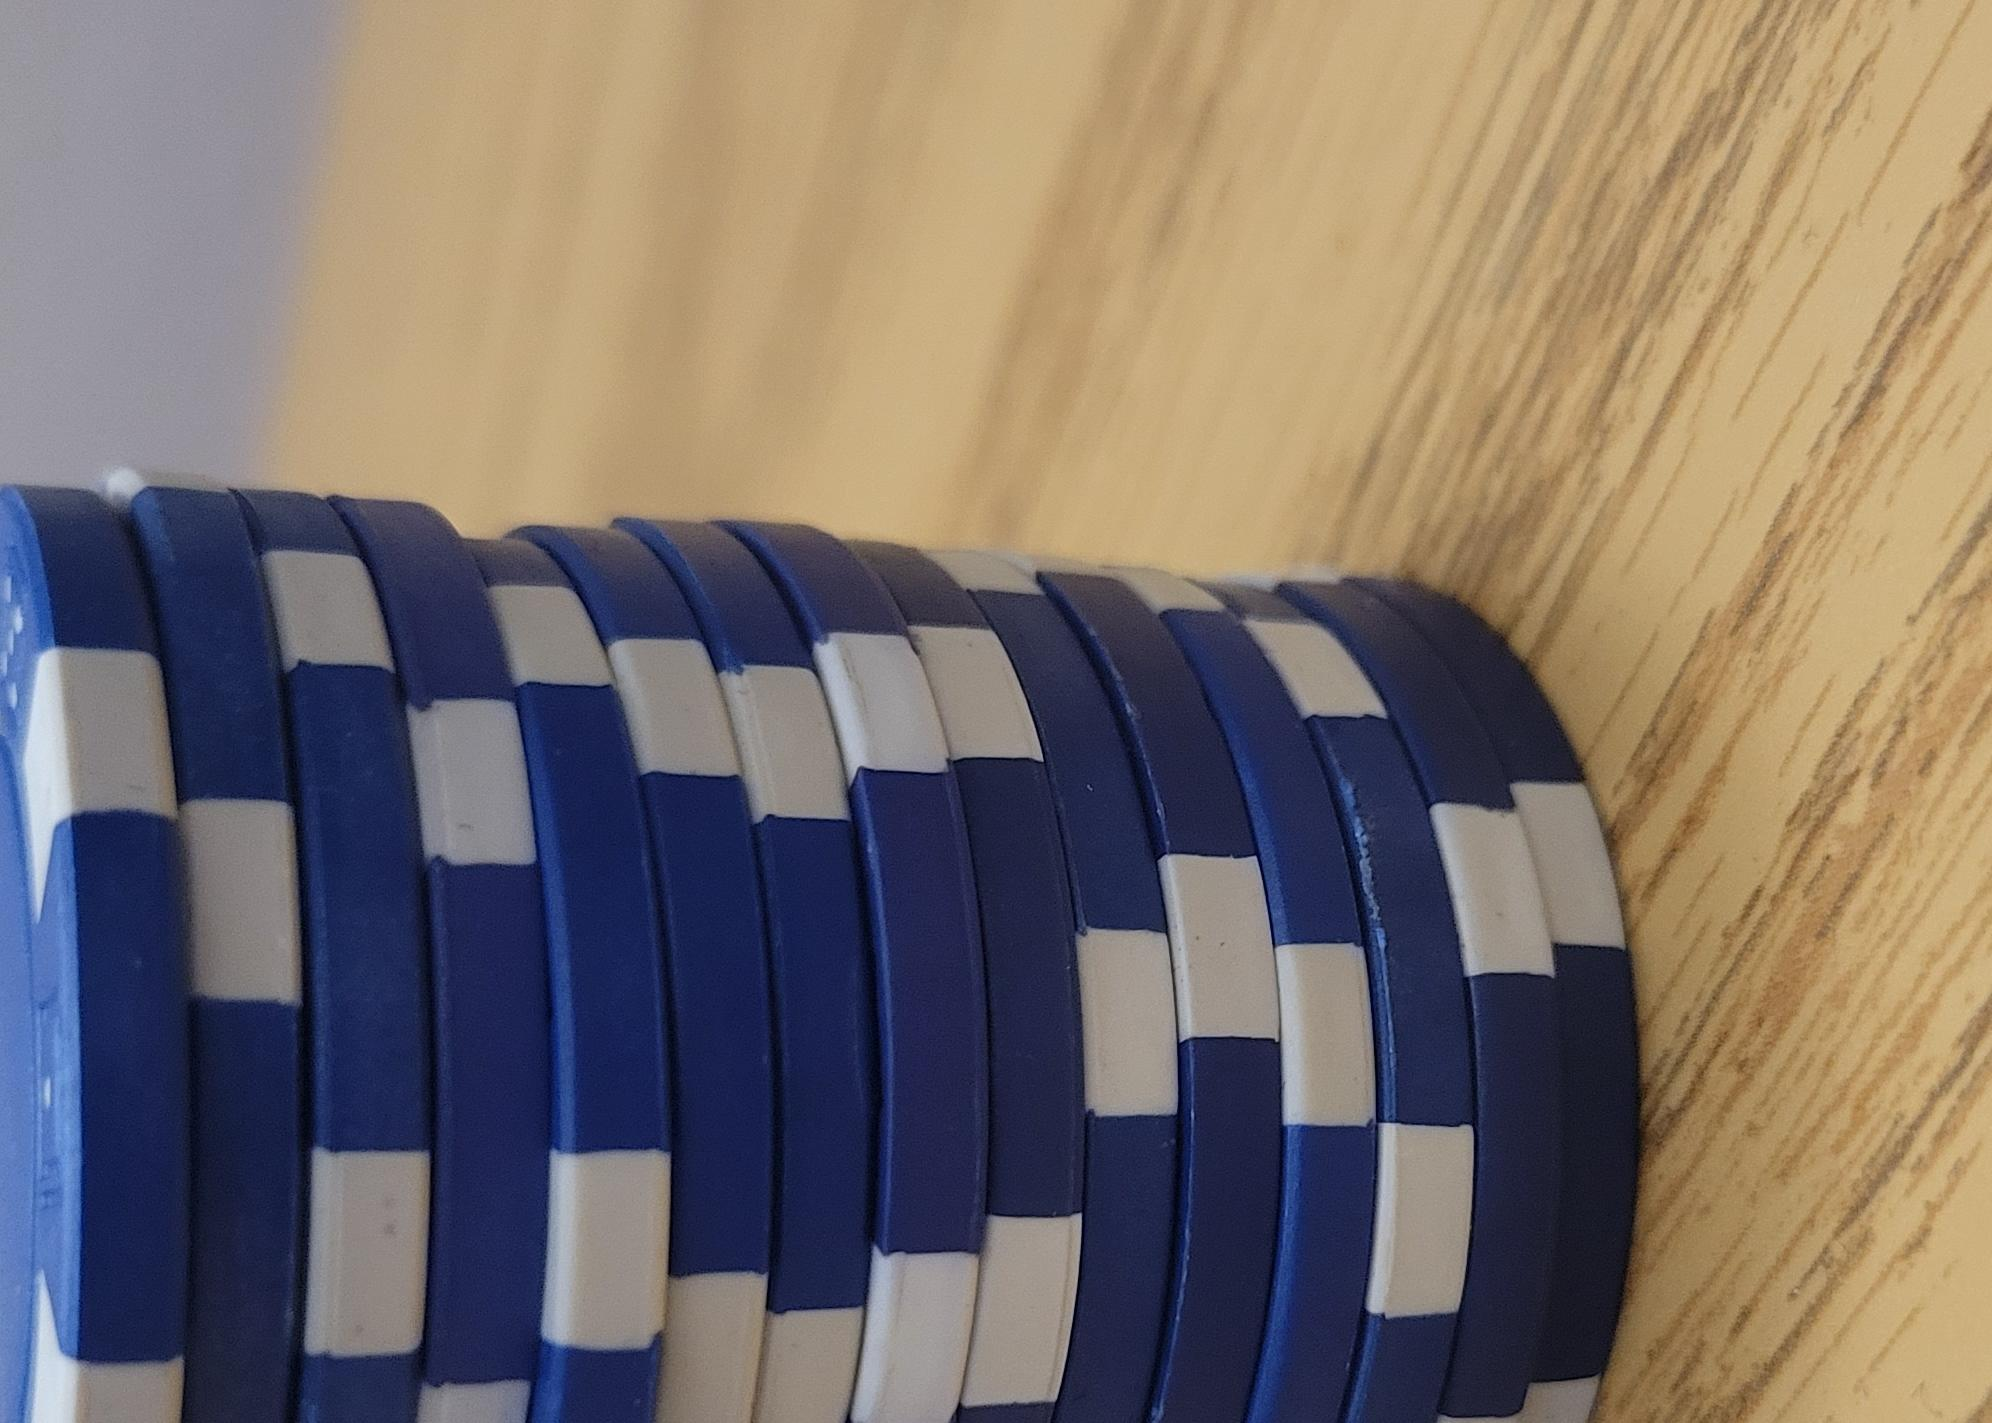Chip: (2, 172, 1281, 1423)
